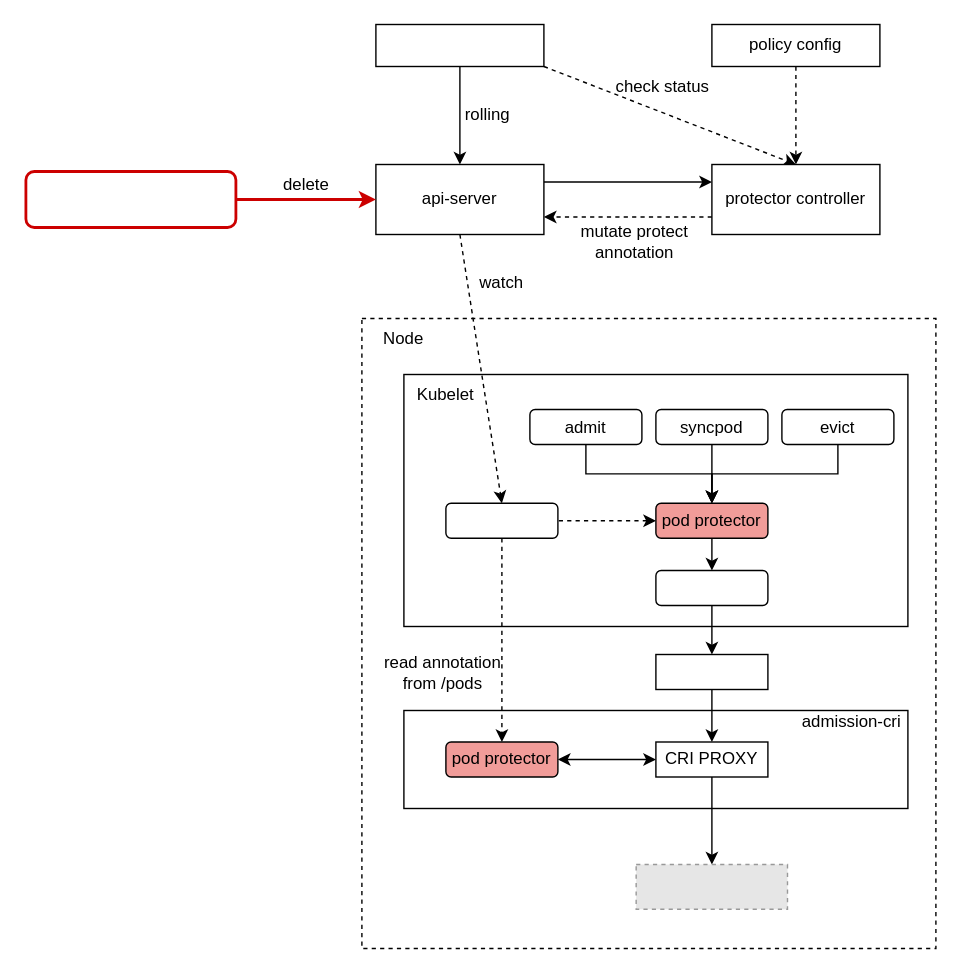
Some shapes in this 960 by 973 pixel diagram are drawn without their labels. Grey dashed boxes stand in for pictures. Each missing label, with the box of its shape:
CRI: (654, 653, 768, 690)
kill container: (654, 569, 768, 606)
kubectl/other controller: (24, 169, 237, 228)
pod cache: (444, 502, 558, 538)
workload: (374, 23, 544, 66)
